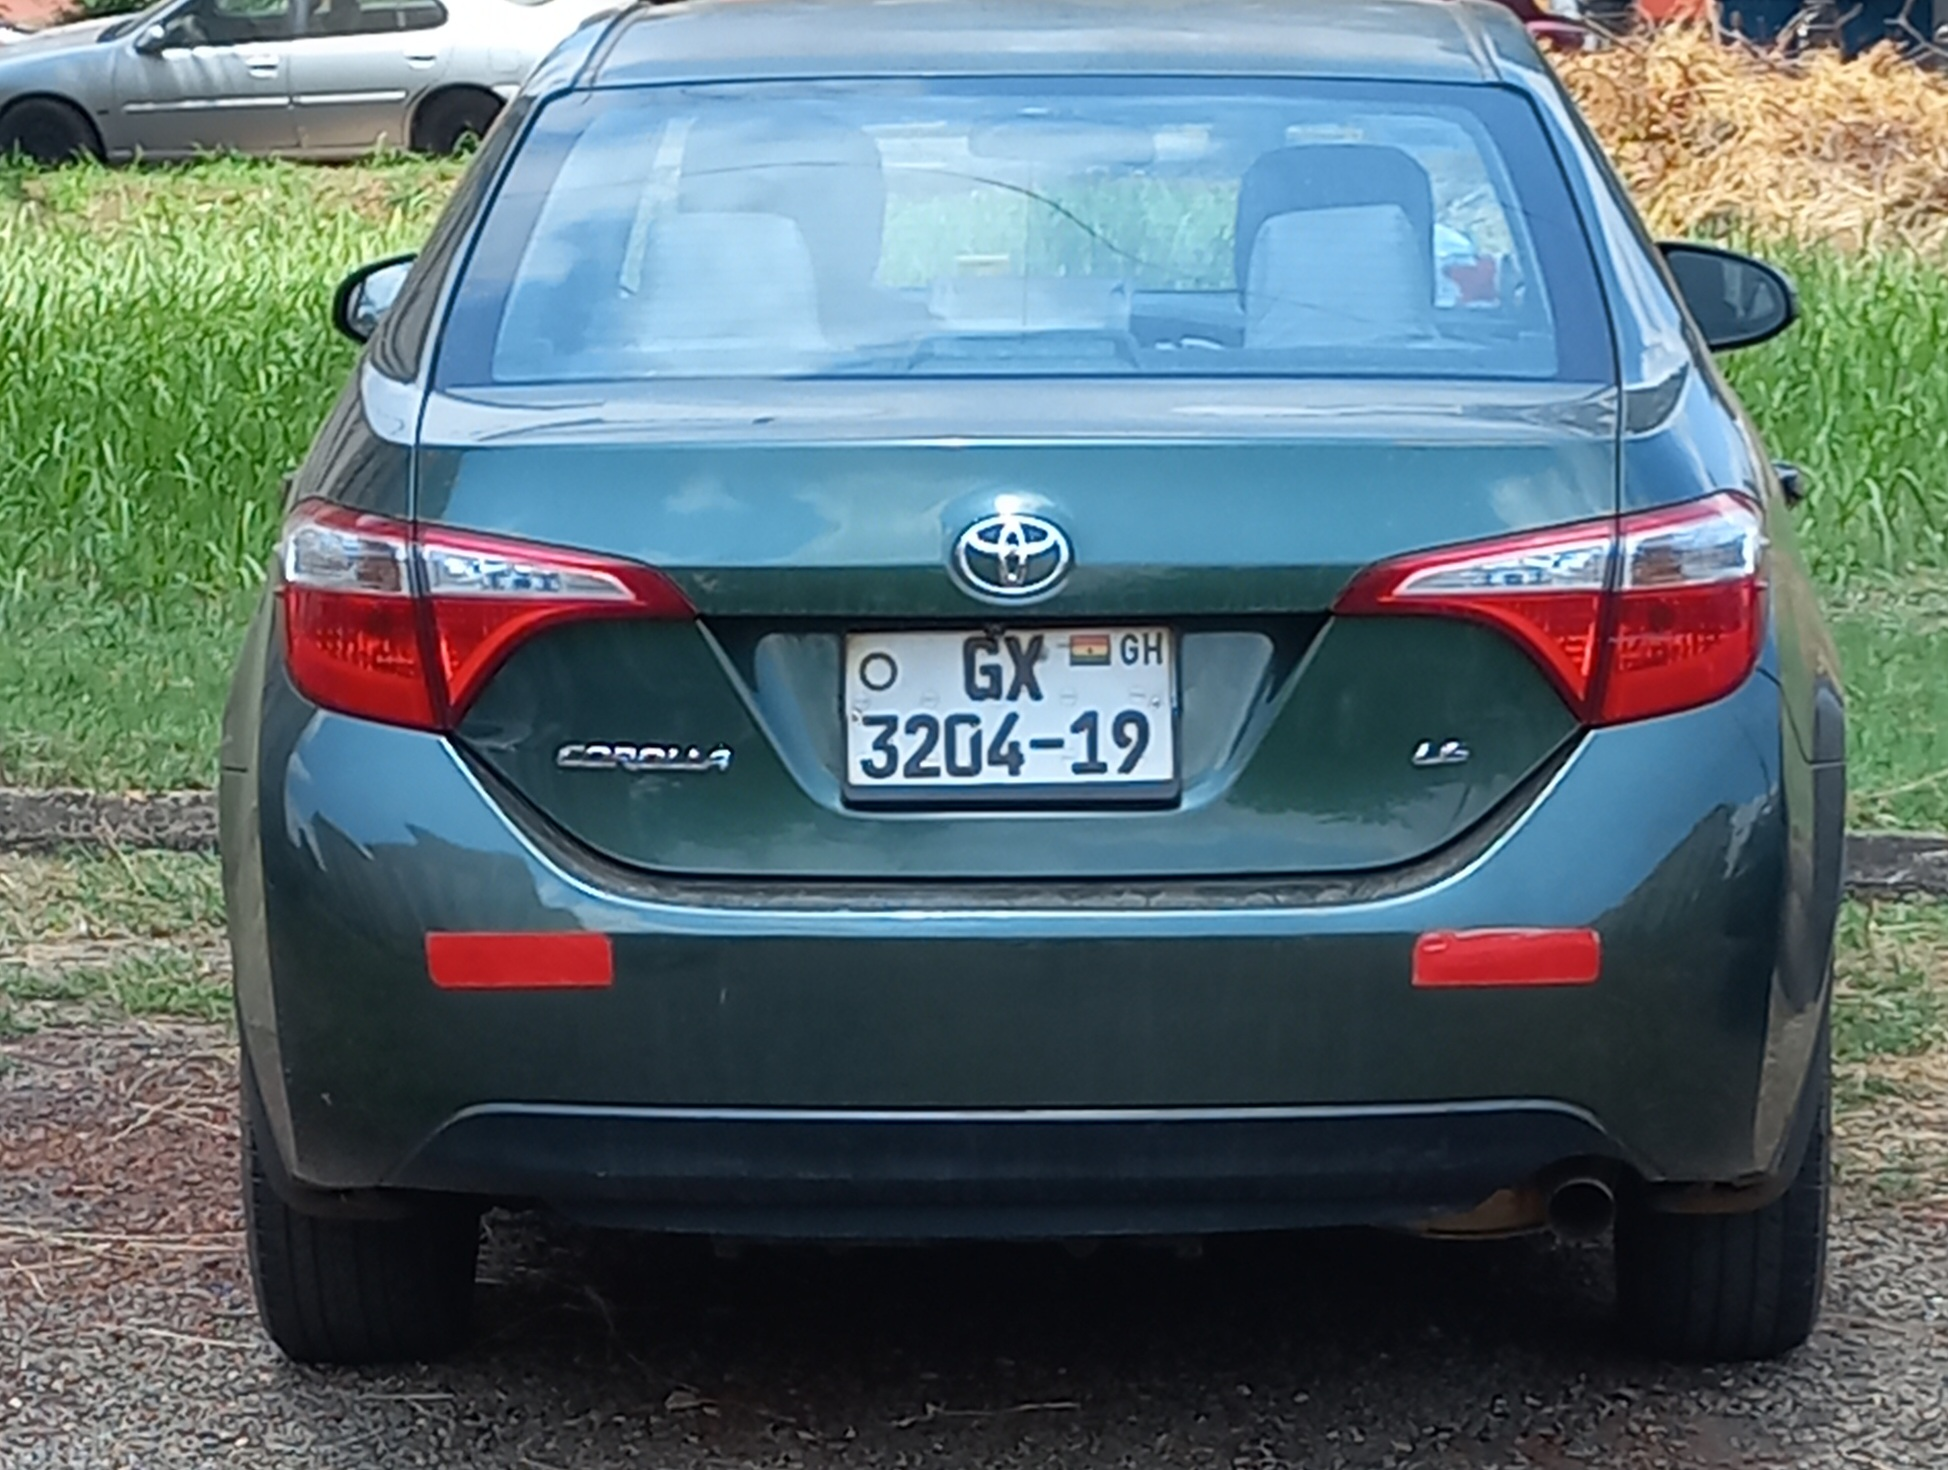number_plates: (845, 618, 1177, 790)
